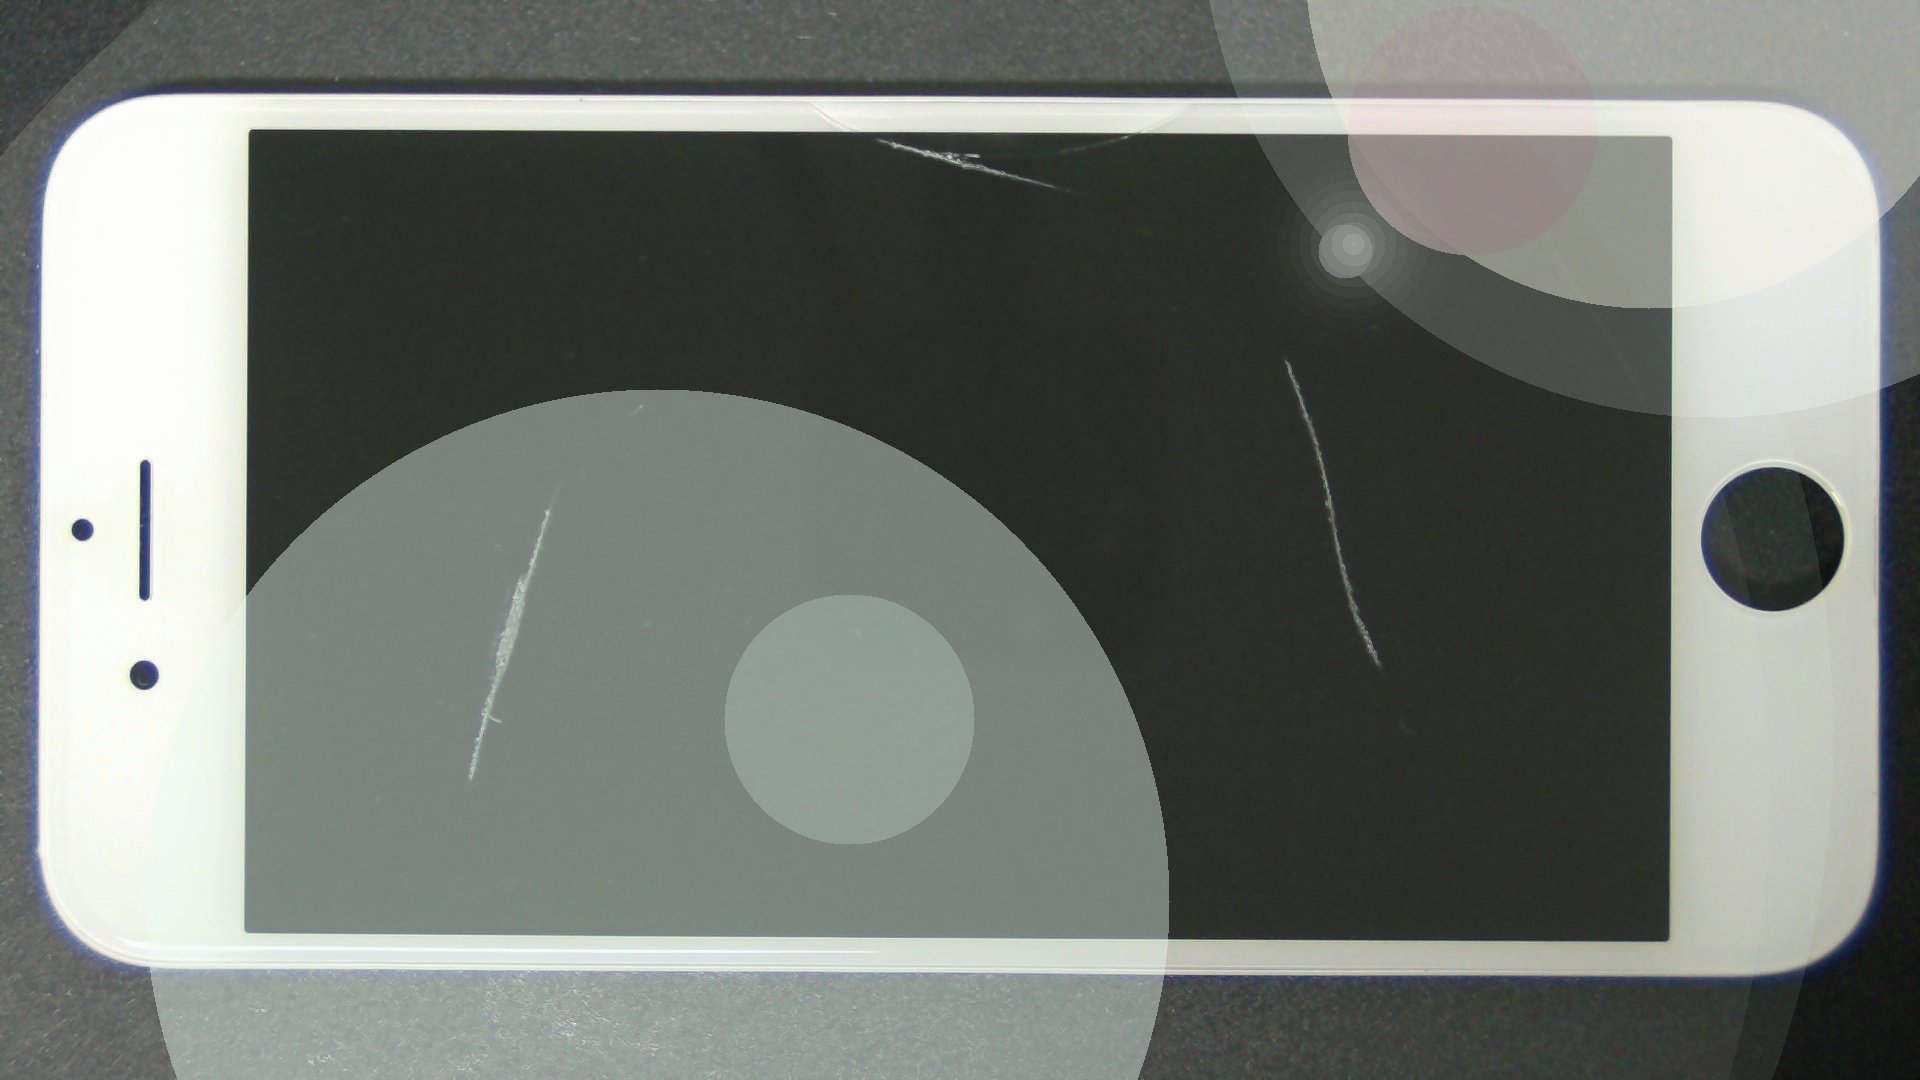oil: (642, 177, 1920, 539), (276, 253, 824, 761), (438, 69, 1313, 208)
